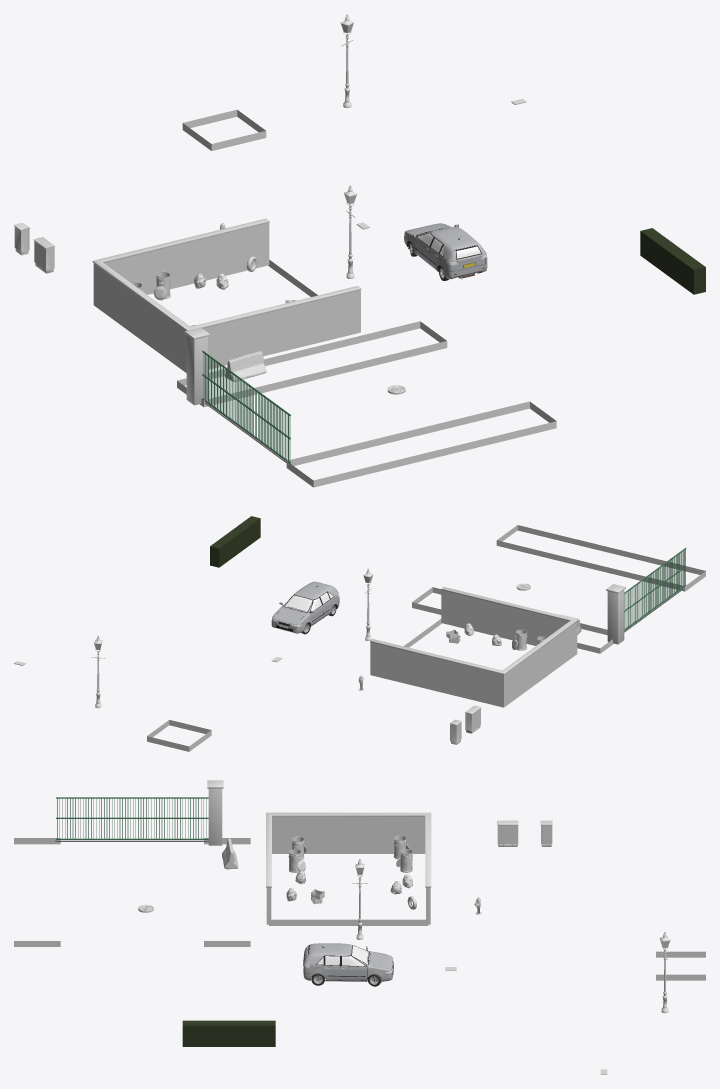
File: cell_m2_0.glb
3 renders of one model, top to bottom at view 1: azimuth 30°, elevation 25°; view 2: azimuth 150°, elevation 25°; view 3: azimuth 270°, elevation 25°, orthographic. The views are drawn at different scales.
Visible parts, largest first — view 1: cell_m2_0; view 2: cell_m2_0; view 3: cell_m2_0.
Boxes of the visible parts, x1=… form: cell_m2_0: x1=14, y1=14, x2=705, y2=487; cell_m2_0: x1=14, y1=516, x2=705, y2=751; cell_m2_0: x1=14, y1=780, x2=705, y2=1074.
Bounding box in the file's own units: 24.61 × 4.14 × 30.4.
